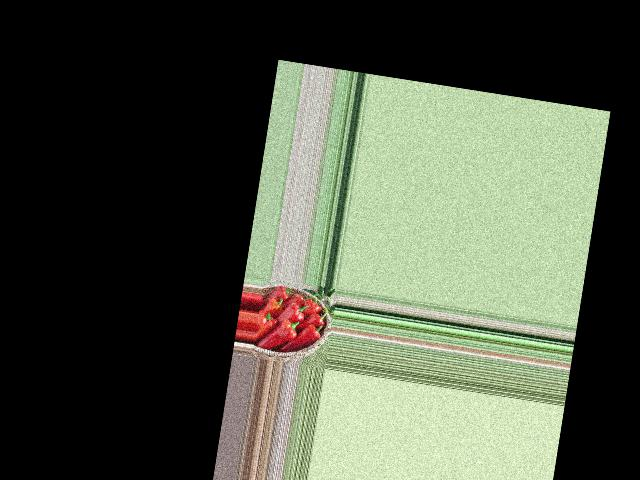bell_pepper: (305, 309, 328, 329)
